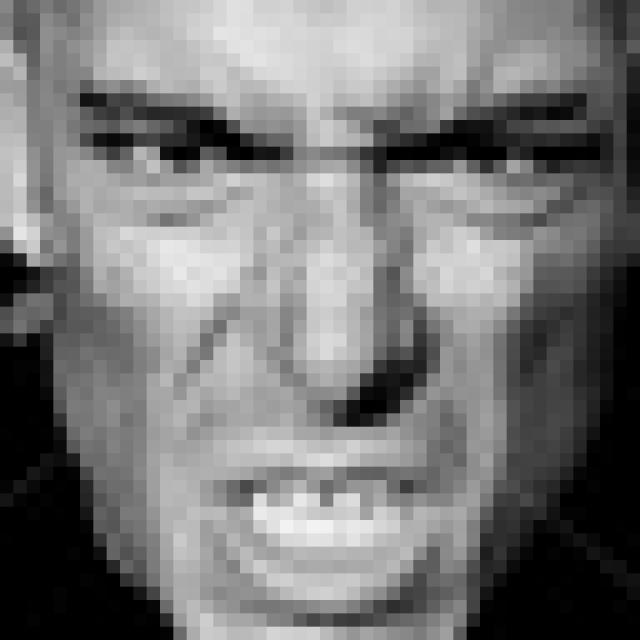angry: (66, 84, 600, 609)
